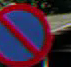No waiting: (0, 3, 55, 66)
